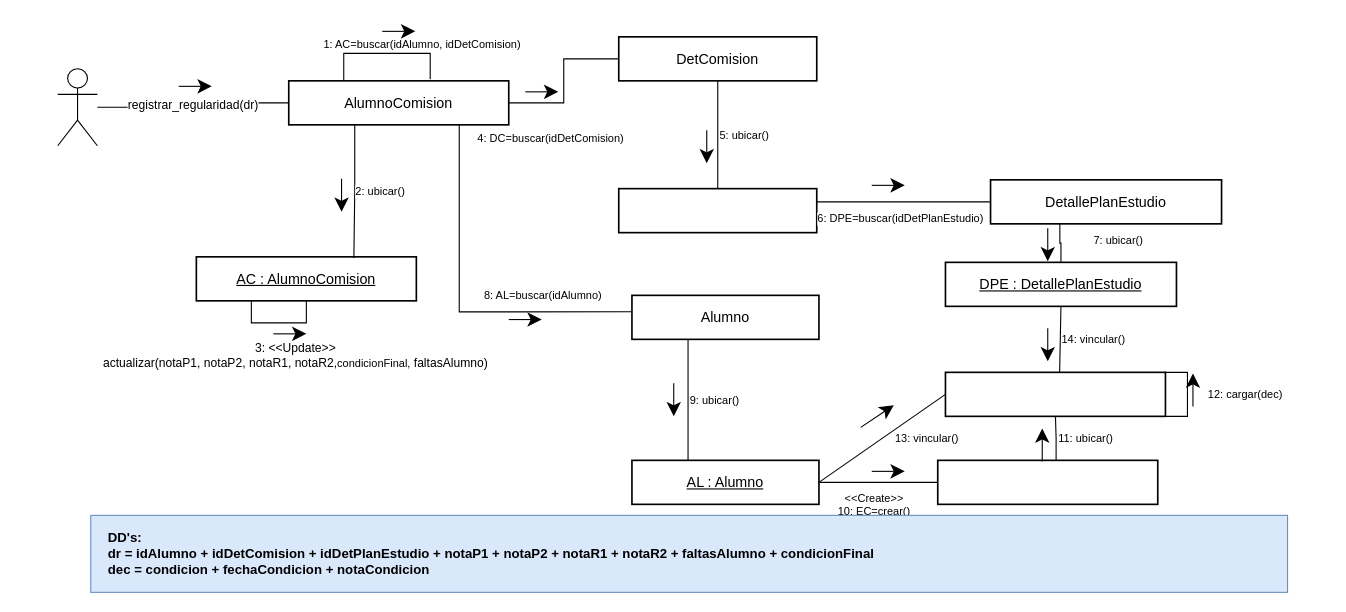
The diagram is 1346 pixels wide and 612 high, and some of its shapes have lost their labels. Each missing label, with the centre of its shape:
"DC : DetComision" belongs at (717,210).
"EC : EstadoCurricular" belongs at (1055,394).
"EstadoCurricular" belongs at (1047,482).
"Preceptor / Docente" belongs at (77,107).
